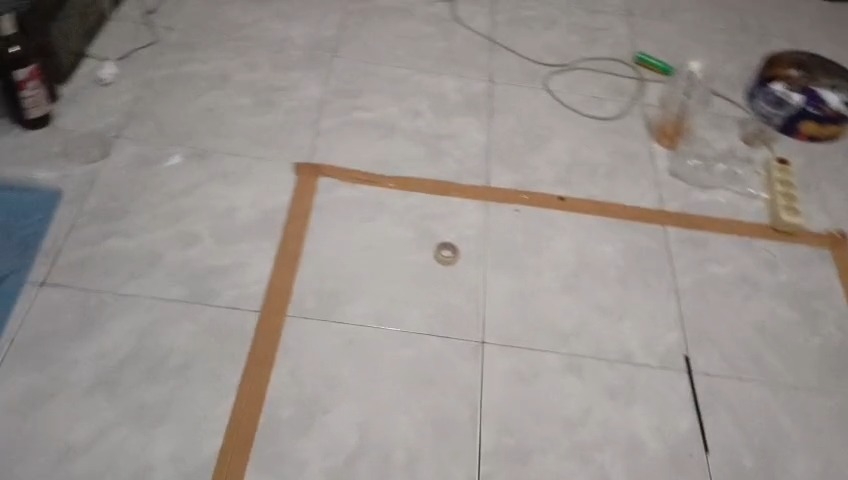floor marking: (212, 163, 847, 479)
